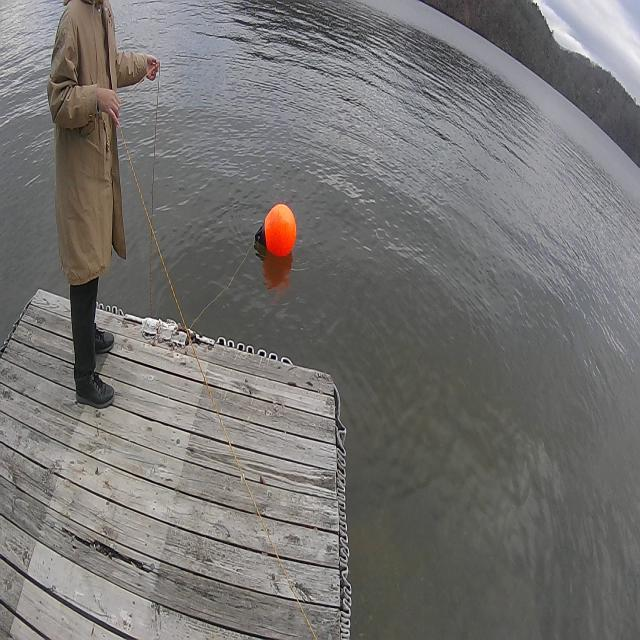Buoy: (253, 200, 299, 273)
